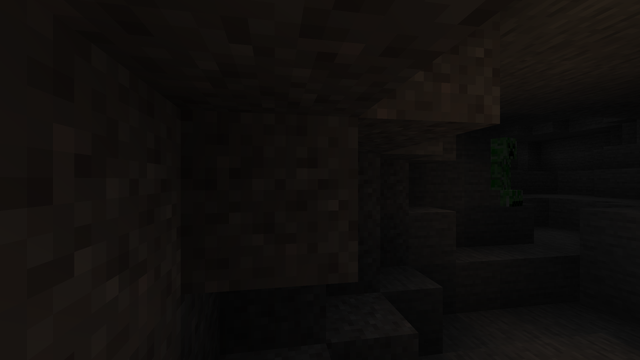creepers: (489, 133, 521, 205)
